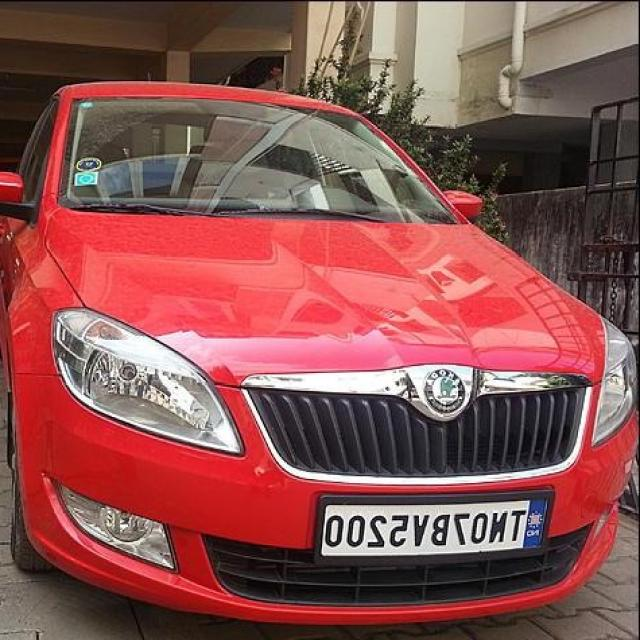license_plate: (304, 486, 560, 566)
